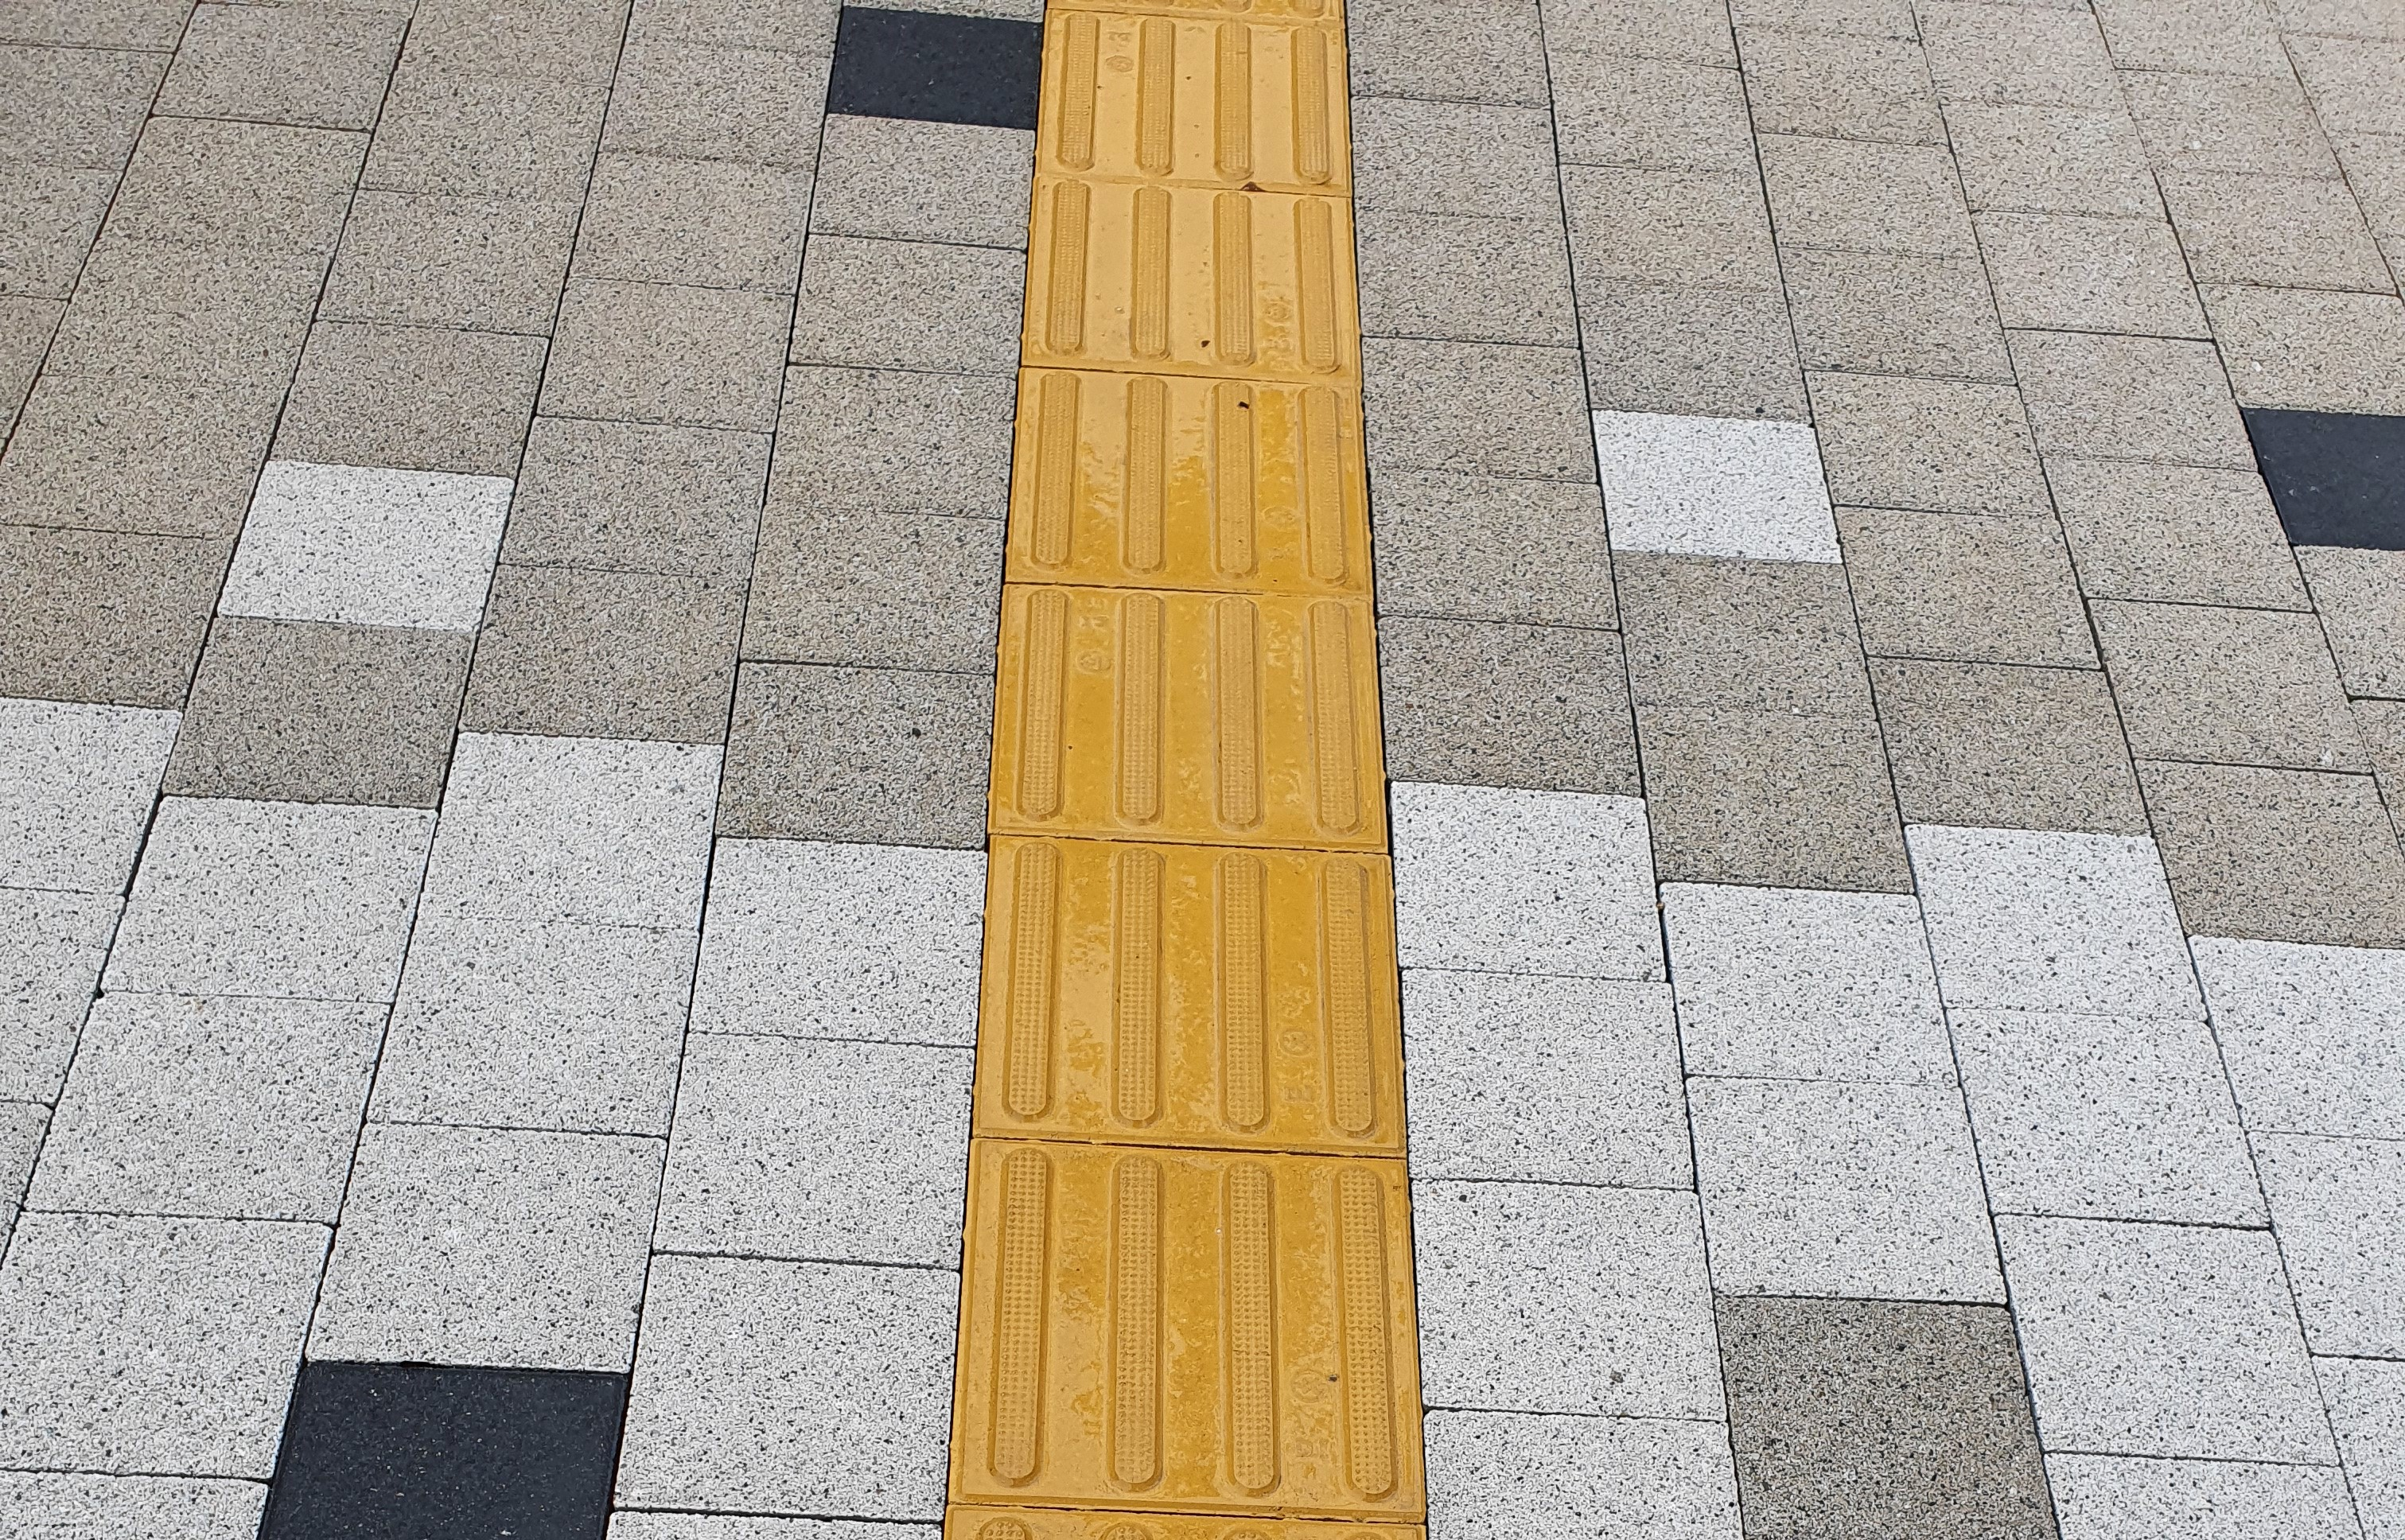guideBlock: (973, 1142, 1411, 1512), (983, 843, 1388, 1162), (1001, 585, 1371, 848), (1018, 349, 1359, 580), (1025, 5, 1369, 221), (1045, 205, 1353, 399)
